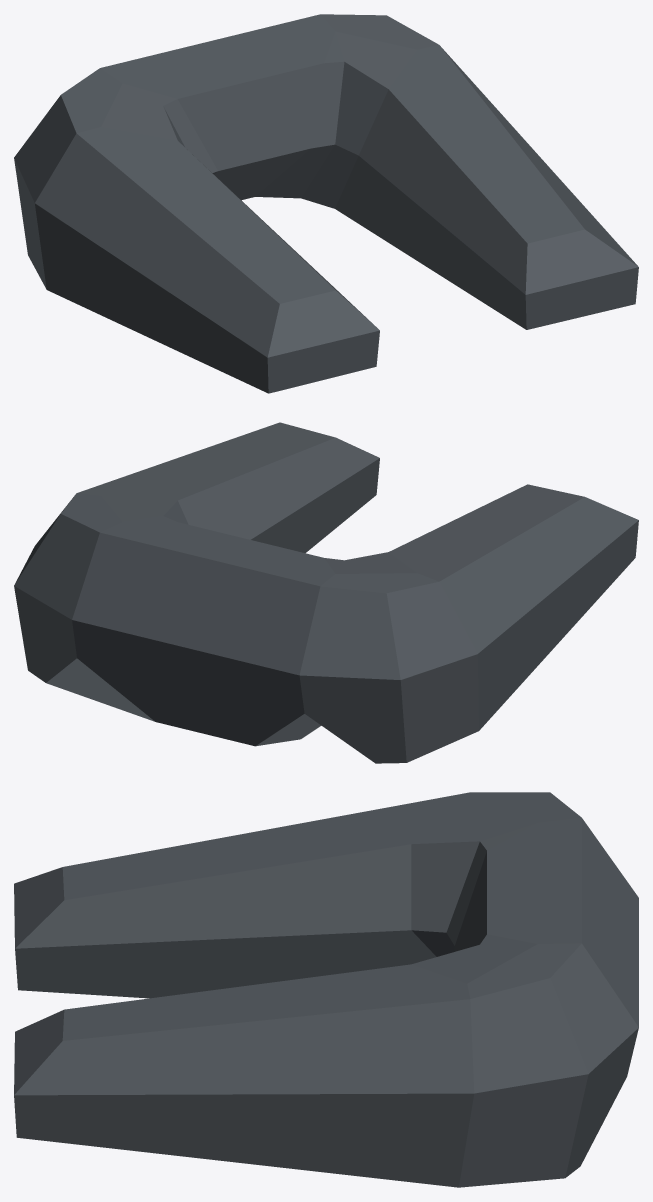
The model's file is Fighter_04_Detail_3_Yellow.fbx.
3 renders of one model, top to bottom at view 1: azimuth 30°, elevation 25°; view 2: azimuth 150°, elevation 25°; view 3: azimuth 270°, elevation 25°, orthographic. The views are drawn at different scales.
Visible parts, largest first — view 1: Fighter_04_Detail_3_Yellow; view 2: Fighter_04_Detail_3_Yellow; view 3: Fighter_04_Detail_3_Yellow.
Boxes of the visible parts, x1,y1,x2,y2 form: Fighter_04_Detail_3_Yellow: (14,14,638,393); Fighter_04_Detail_3_Yellow: (14,422,638,763); Fighter_04_Detail_3_Yellow: (14,792,638,1187).
Bounding box in the file's own units: 211 × 78.02 × 221.
1 material, 1 textured.
